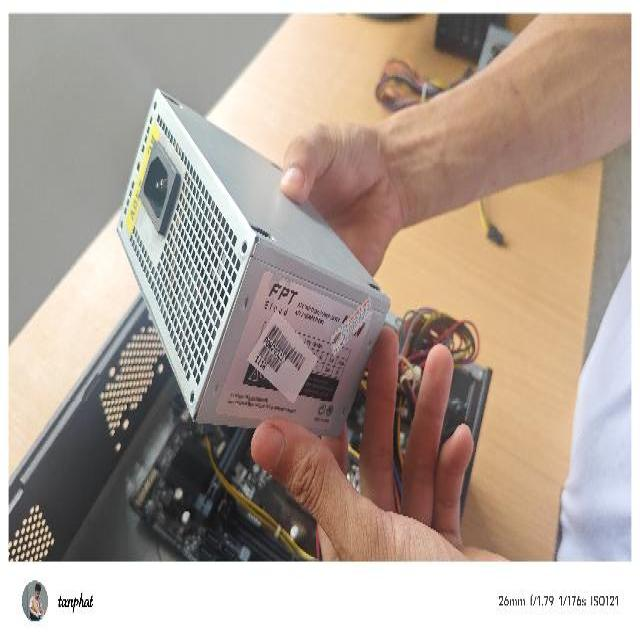PSU: (114, 86, 390, 443)
